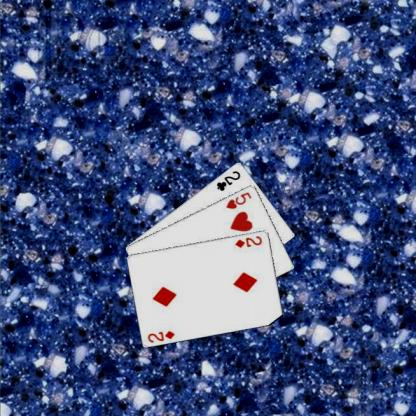2C: (214, 168, 242, 192)
2D: (145, 327, 176, 344), (233, 233, 263, 249)
5H: (223, 189, 253, 210)
